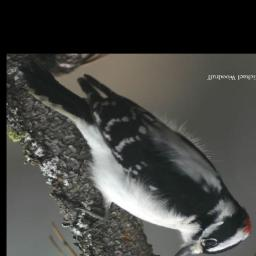Woodpecker: (21, 63, 252, 256)
